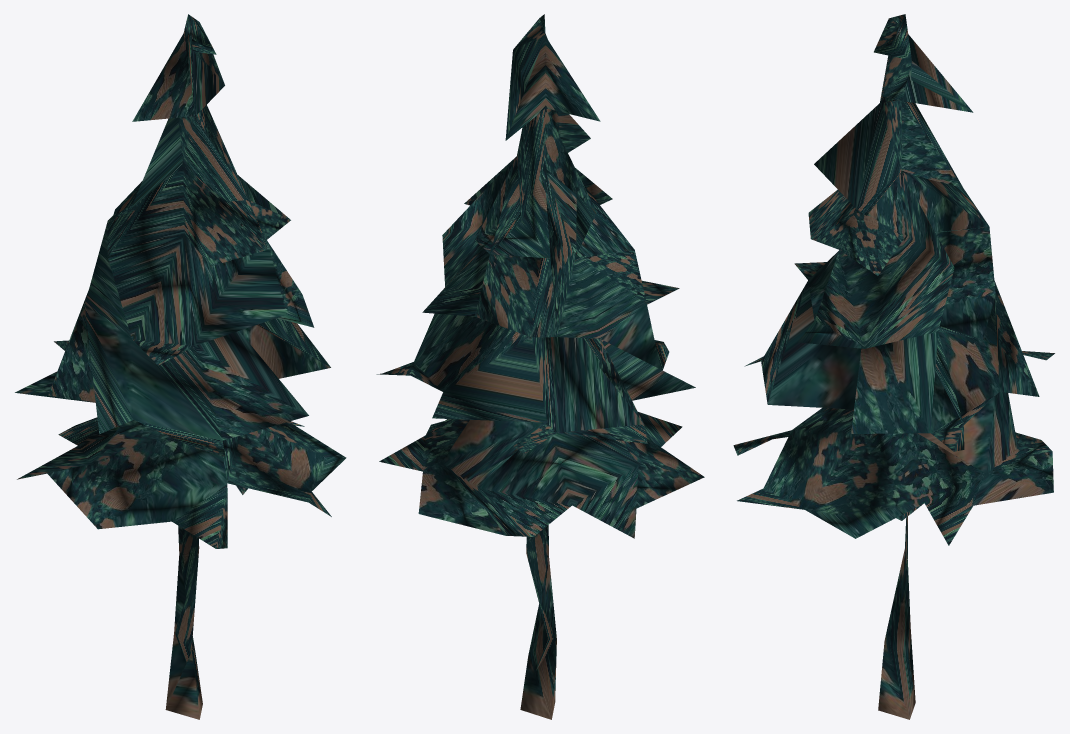
Rendered from pine_a.glb.
The picture shows the model from 3 angles, left to right: view 1: azimuth 30°, elevation 25°; view 2: azimuth 150°, elevation 25°; view 3: azimuth 270°, elevation 25°; orthographic projection.
Bounding box in the file's own units: 0.7045 × 1.67 × 0.6988.
1 material, 1 textured.
